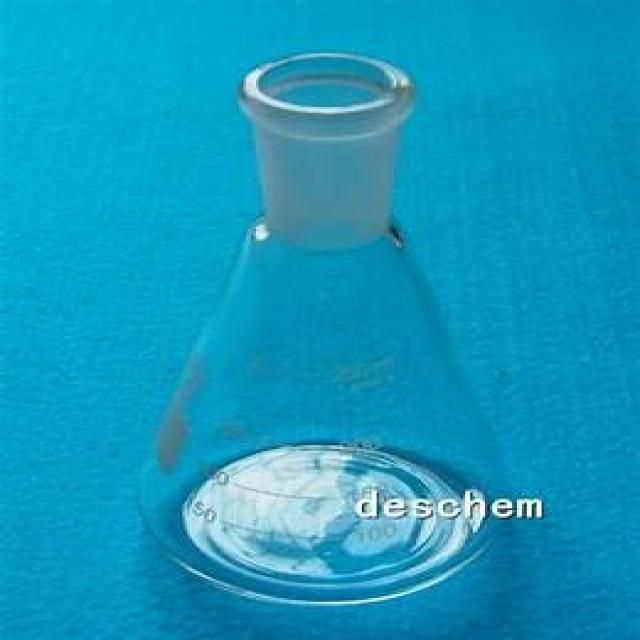Titrarion: (128, 57, 510, 611)
